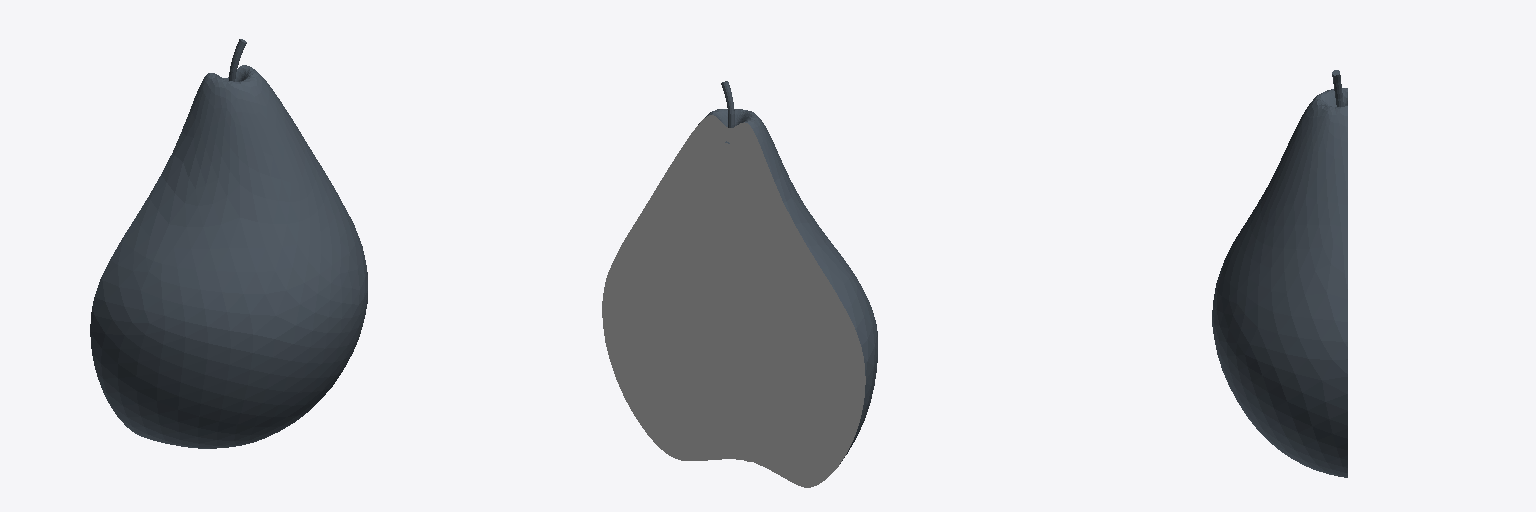
File: pear_half1.obj
3 views of the same model, side by side, from view 1: azimuth 30°, elevation 25°; view 2: azimuth 150°, elevation 25°; view 3: azimuth 270°, elevation 25° (orthographic).
Parts seen in each view (by area): view 1: Pear_Bosc_Smith02; view 2: Pear_Bosc_Stem02, Pear_Bosc_Smith02; view 3: Pear_Bosc_Smith02.
Part boxes in pixels (bbox=[...]): Pear_Bosc_Smith02: bbox=[90, 65, 367, 448]; Pear_Bosc_Stem02: bbox=[602, 81, 865, 487]; Pear_Bosc_Smith02: bbox=[698, 109, 877, 463]; Pear_Bosc_Smith02: bbox=[1212, 88, 1347, 477].
Bounding box in the file's own units: 52.27 × 72.91 × 23.41.